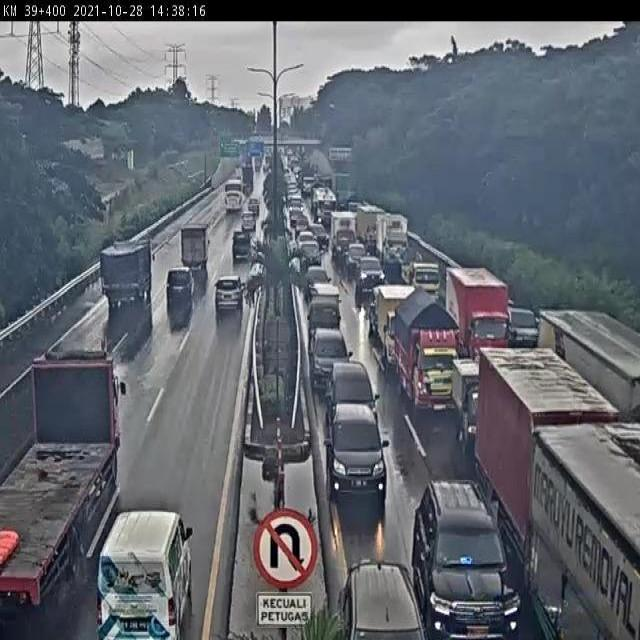big bus: (224, 177, 243, 212)
big truck: (477, 345, 640, 640), (4, 345, 119, 639), (537, 307, 640, 433), (398, 287, 456, 416), (443, 266, 509, 366), (94, 234, 155, 318), (178, 220, 217, 277)
car: (64, 511, 221, 626), (425, 470, 515, 640), (326, 402, 396, 509), (344, 554, 423, 640), (308, 326, 355, 394), (330, 359, 375, 420), (158, 270, 194, 318), (506, 300, 537, 344), (213, 280, 242, 320), (241, 216, 258, 236), (248, 194, 264, 214)
small truck: (458, 358, 496, 446), (228, 233, 256, 268)
